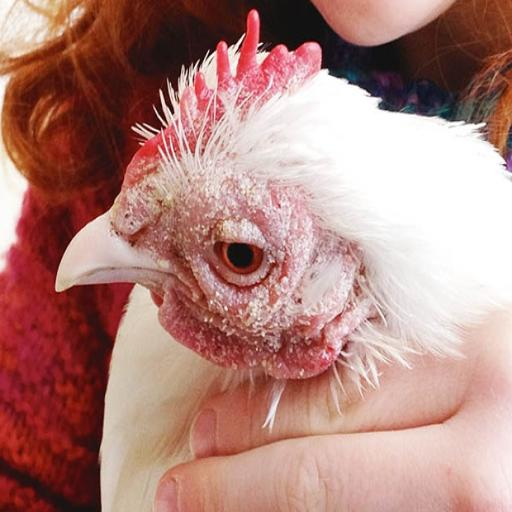disease: (118, 160, 399, 389), (141, 60, 313, 150)
